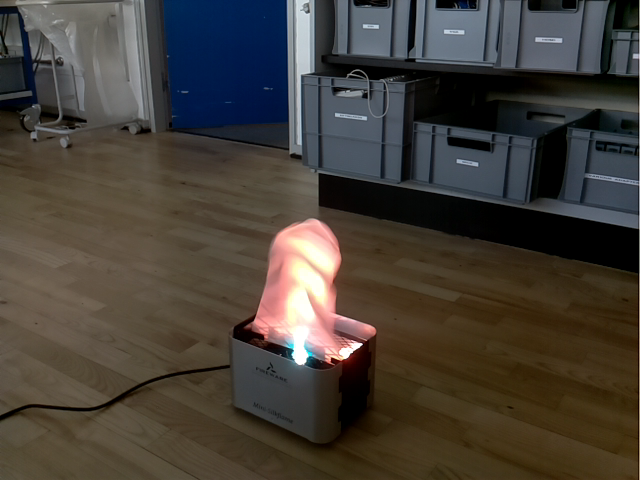fire: (251, 218, 345, 365)
